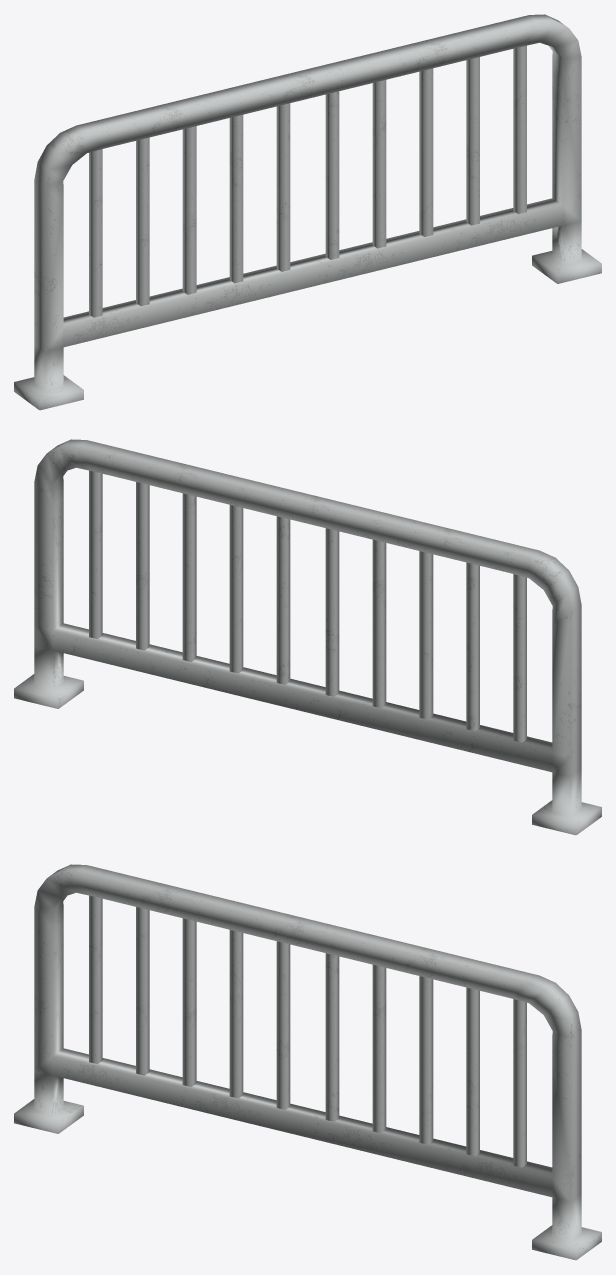
The model's file is MetalBarrier.fbx.
3 renders of one model, top to bottom at view 1: azimuth 30°, elevation 25°; view 2: azimuth 150°, elevation 25°; view 3: azimuth 330°, elevation 25°, orthographic.
Visible parts, largest first — view 1: barrier; view 2: barrier; view 3: barrier.
Part boxes in pixels (x1,y1,x2,y2): barrier: (14, 14, 601, 410); barrier: (14, 439, 601, 835); barrier: (14, 864, 601, 1260).
Bounding box in the file's own units: 1800 × 790 × 142.
